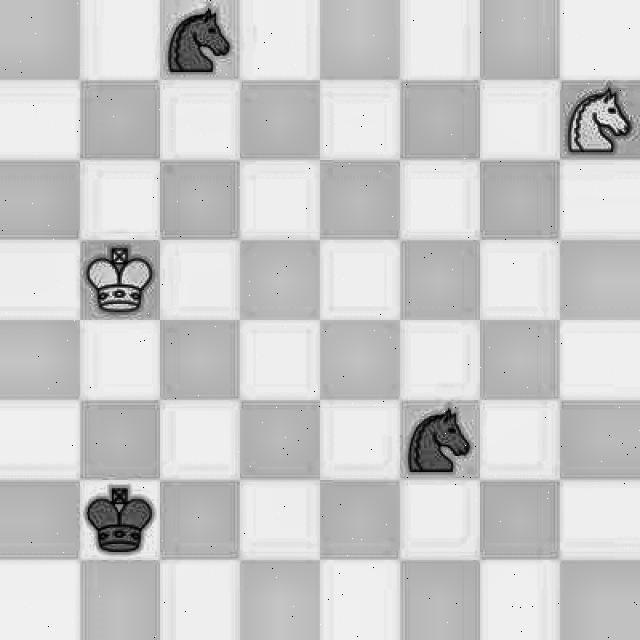Black Knight: (167, 0, 237, 74), (406, 400, 471, 477)
black king: (79, 482, 153, 555)
white king: (80, 240, 150, 317)
whiteknight: (564, 82, 630, 154)
